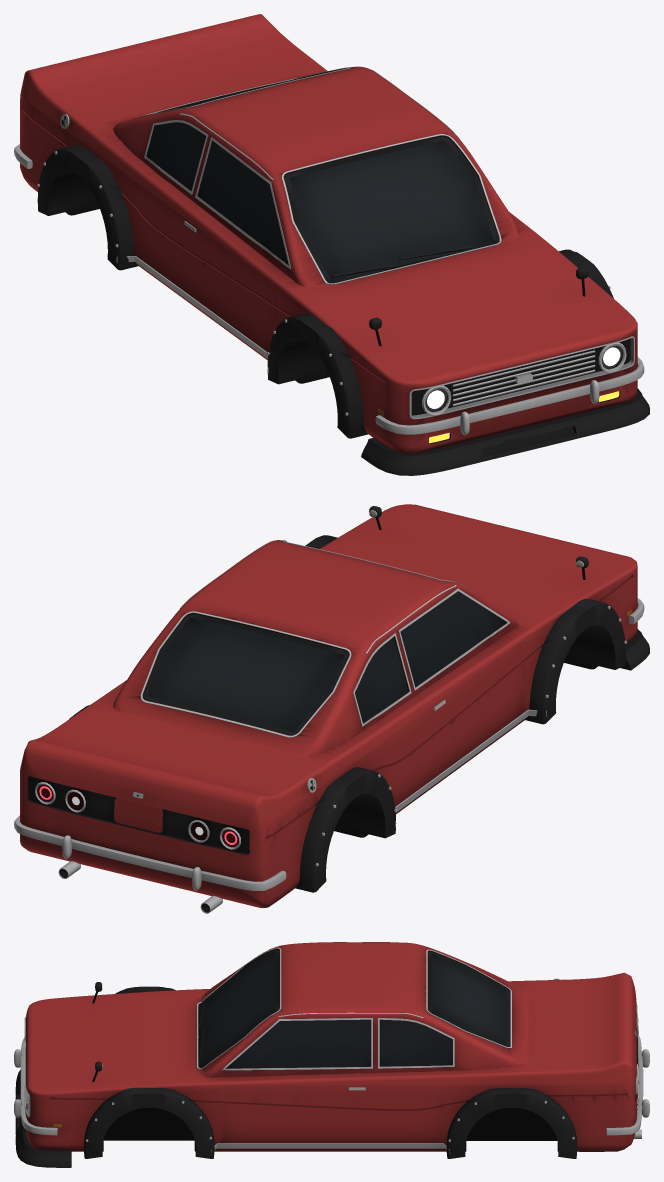
The model's file is kaido.m.glb.
3 renders of one model, top to bottom at view 1: azimuth 30°, elevation 25°; view 2: azimuth 150°, elevation 25°; view 3: azimuth 270°, elevation 25°, orthographic. The views are drawn at different scales.
Parts seen in each view (by area): view 1: paint_lodm, window_lodm, trim_lodm, chrome_lodm, grille_lodm; view 2: paint_lodm, window_lodm, trim_lodm, chrome_lodm, tail_lodm; view 3: paint_lodm, window_lodm, trim_lodm, chrome_lodm.
Part boxes in pixels (left/top/right/bottom): paint_lodm: left=20, top=14, right=637, bottom=453; window_lodm: left=147, top=77, right=498, bottom=283; trim_lodm: left=37, top=68, right=649, bottom=475; chrome_lodm: left=14, top=67, right=644, bottom=435; grille_lodm: left=411, top=338, right=630, bottom=454; paint_lodm: left=20, top=504, right=637, bottom=908; window_lodm: left=143, top=591, right=506, bottom=731; trim_lodm: left=27, top=506, right=649, bottom=912; chrome_lodm: left=14, top=510, right=644, bottom=913; tail_lodm: left=37, top=784, right=238, bottom=847; paint_lodm: left=26, top=942, right=637, bottom=1151; window_lodm: left=199, top=951, right=505, bottom=1068; trim_lodm: left=15, top=948, right=637, bottom=1167; chrome_lodm: left=14, top=945, right=649, bottom=1153.
Size of what is drawn, in the model's own units: 1.82 by 1.11 by 4.52.
